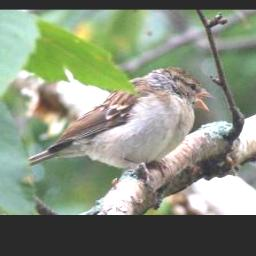Sparrow: (28, 65, 218, 188)
